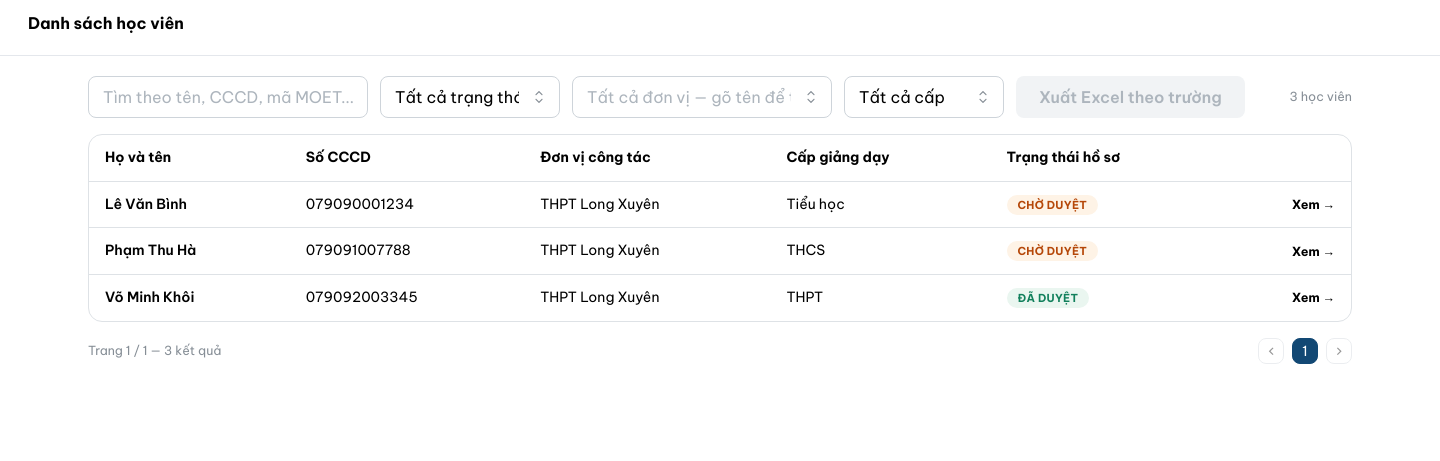
Admin — Danh sách học viên › xuất lỗi → hiện thông báo lỗi
Expected: the text "Lê Văn Bình" is shown, [89,181,290,228]
Type "Long Xuyên" into the field with placeholder "Tất cả đơn vị — gõ tên để tìm".
click(702, 97); type("Long Xuyên")  # box [572,76,832,118]
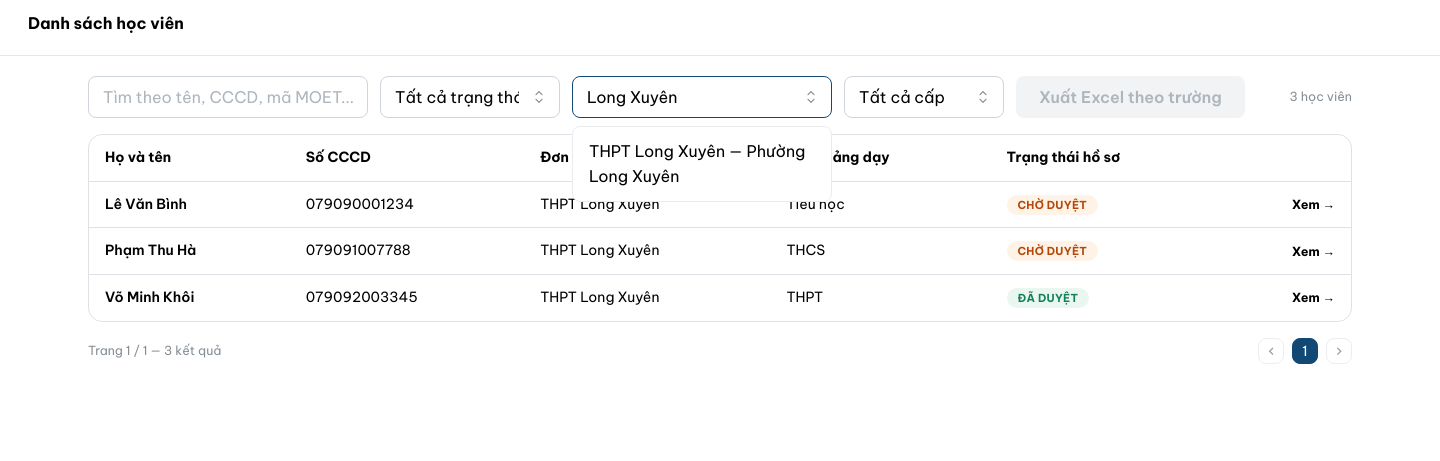
Click the option "THPT Long Xuyên — Phường Long Xuyên".
click(702, 164)  # box [577,131,827,197]
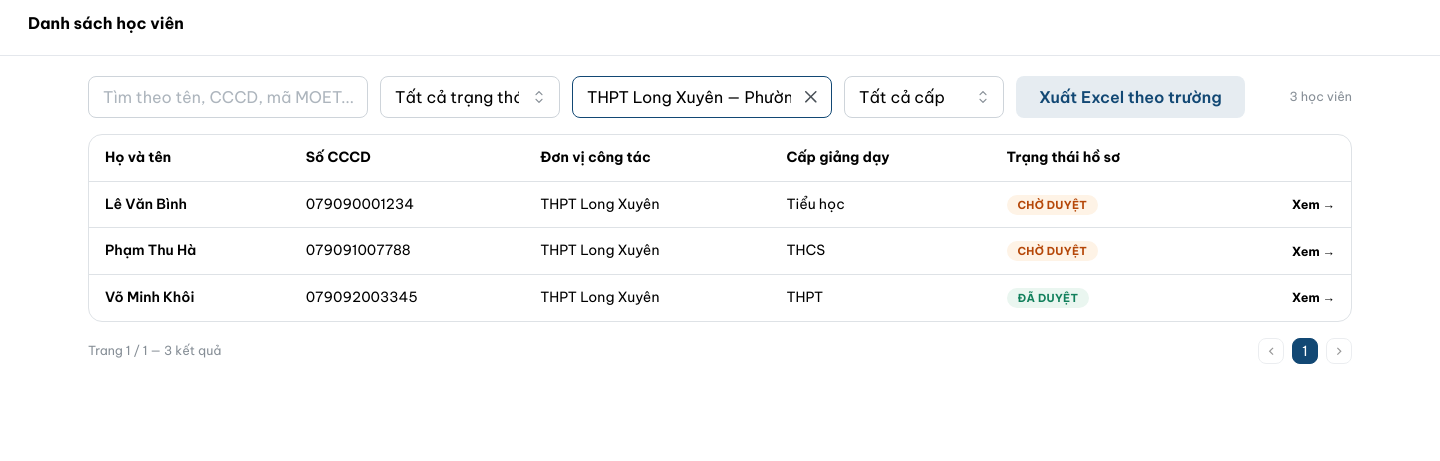
Click the button "Xuất Excel theo trường".
click(1130, 97)  # box [1016,76,1245,118]
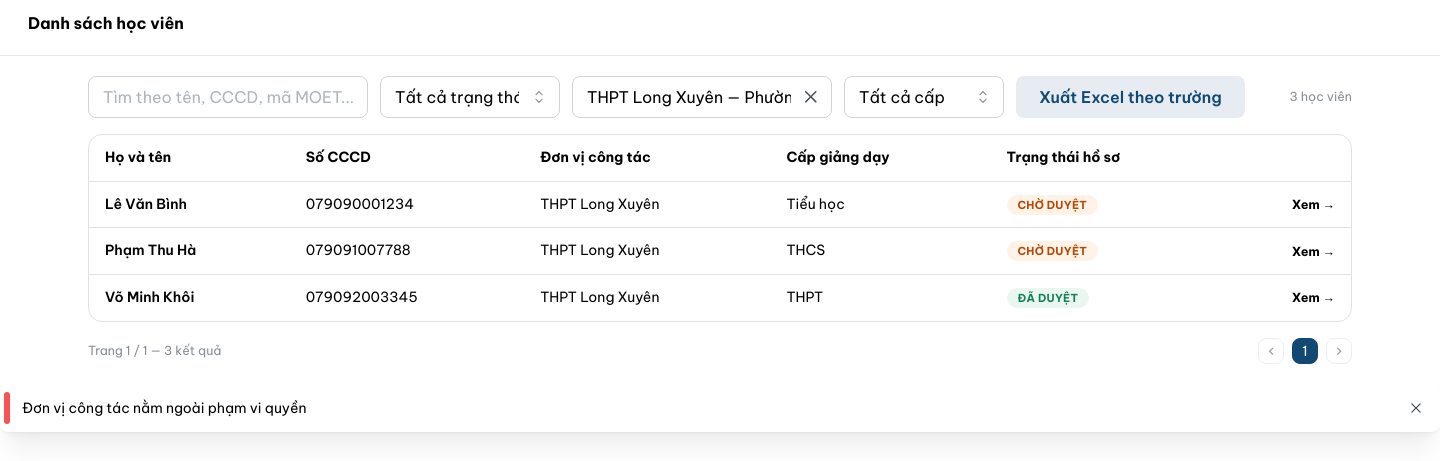
Now the text "Đơn vị công tác nằm ngoài phạm vi quyền" is shown, box [22,399,306,417]
